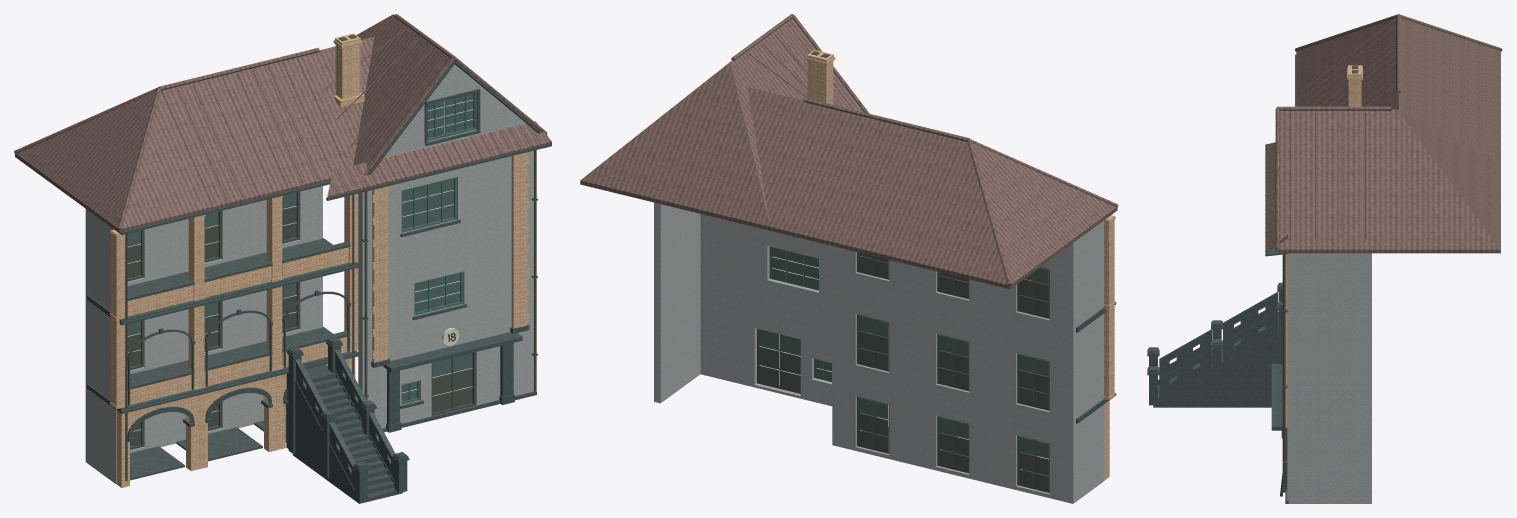
The model's file is changning-yuyuan-1294-dong-zhujun-garden-residence-lod.glb.
The picture shows the model from 3 angles, left to right: view 1: azimuth 30°, elevation 25°; view 2: azimuth 150°, elevation 25°; view 3: azimuth 270°, elevation 25°; orthographic projection. The views are drawn at different scales.
Parts seen in each view (by area): view 1: 董竹君旧居18号楼南面券廊与题号山墙; view 2: 董竹君旧居18号楼南面券廊与题号山墙; view 3: 董竹君旧居18号楼南面券廊与题号山墙.
Part boxes in pixels (x1,y1,x2,y2): 董竹君旧居18号楼南面券廊与题号山墙: (14,14,551,503); 董竹君旧居18号楼南面券廊与题号山墙: (580,14,1118,503); 董竹君旧居18号楼南面券廊与题号山墙: (1147,14,1502,503).
Size of the model in its own units: 17.89 by 15.03 by 13.39.
10 materials, 4 textured.
